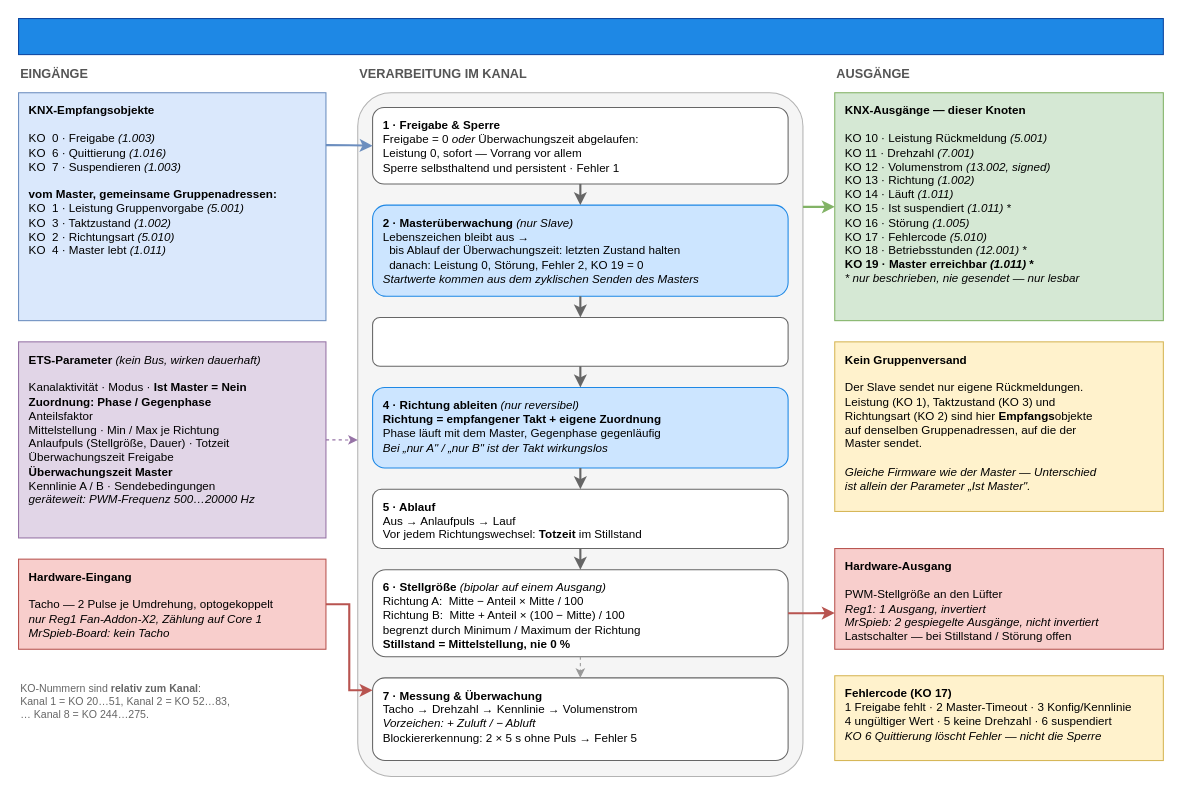
The diagram is 1182 pixels wide and 795 high, and some of its shapes have lost their labels. Here are the shapes that lost their labels. From the top down, the box of each, then its label:
(17, 17, 1163, 55): OAM-FanControl — Kanal als SLAVE · Eingänge → Verarbeitung → Ausgänge
(372, 316, 788, 366): 3 · Anteilsfaktor Leistung = empfangene Vorgabe × Anteilsfaktor, auf 0…100 %
